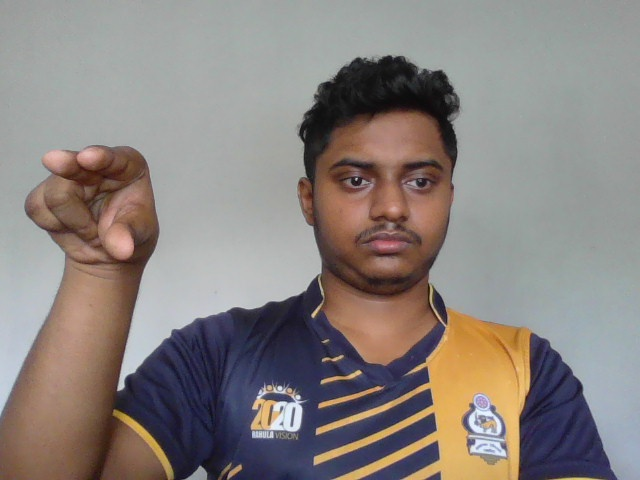No: (22, 145, 169, 268)
